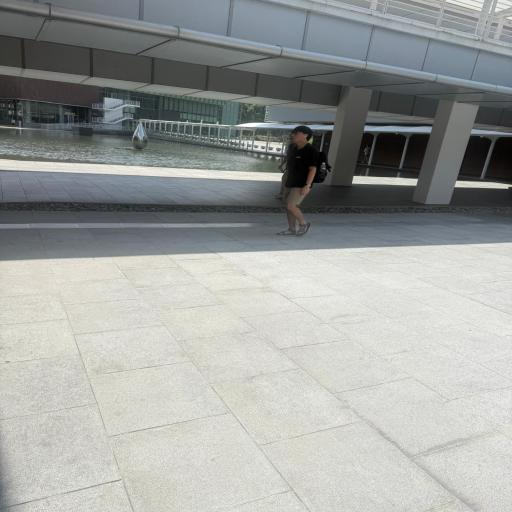person_left: (276, 126, 331, 236)
